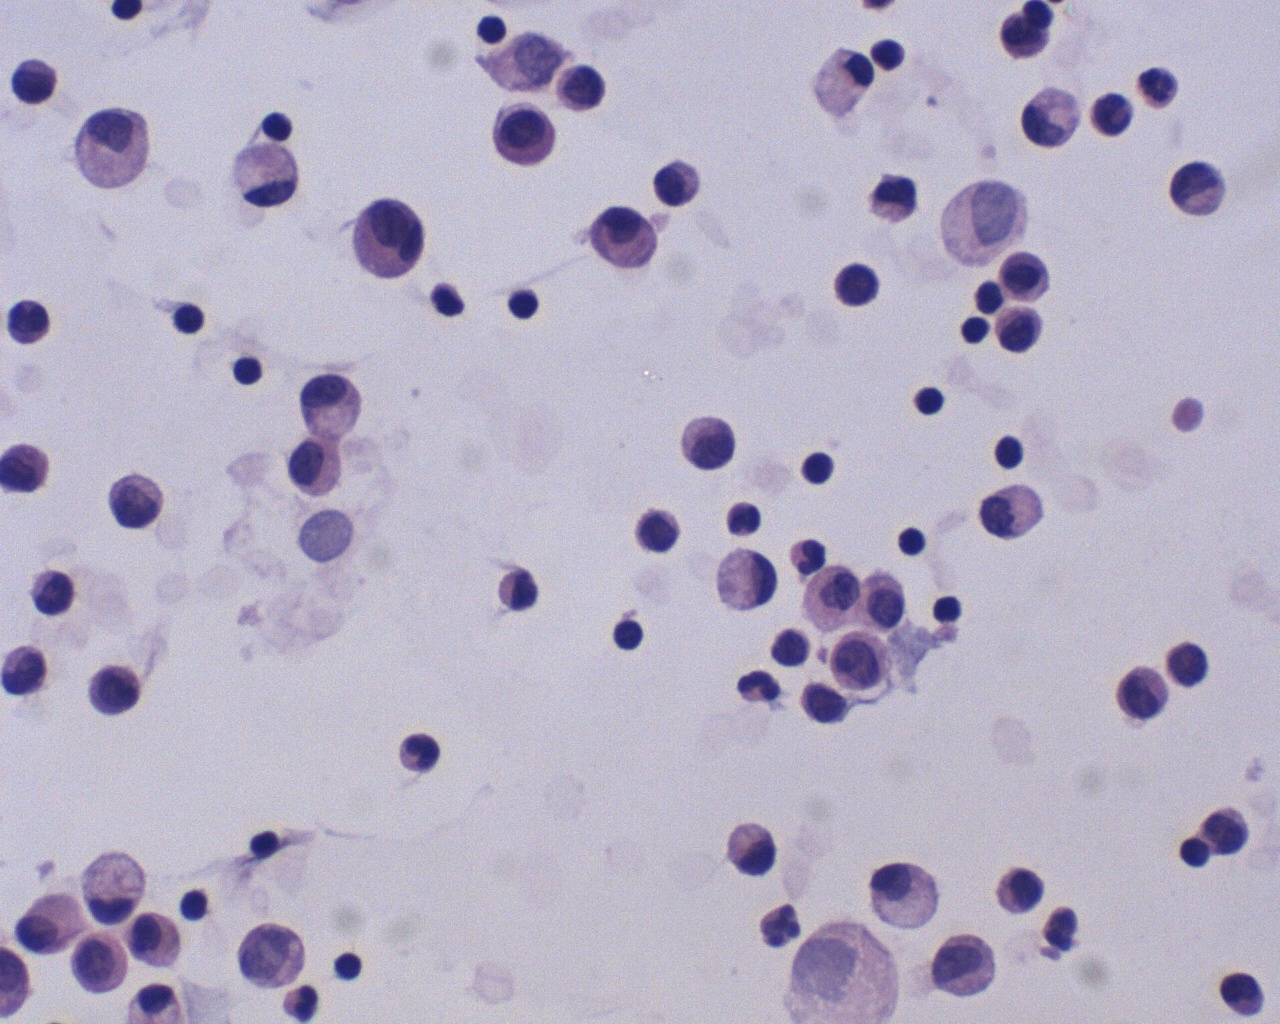ab: (227, 912, 311, 991), (95, 466, 174, 537), (924, 929, 1001, 1001), (828, 628, 893, 695), (1114, 656, 1176, 725), (86, 659, 147, 723), (8, 51, 68, 112), (990, 301, 1049, 360), (833, 258, 881, 313)
histo: (861, 857, 941, 938), (222, 138, 304, 215), (74, 848, 150, 925)
lymph: (505, 276, 553, 328), (169, 294, 216, 342), (797, 443, 844, 489), (870, 34, 911, 80), (609, 613, 648, 658), (990, 428, 1028, 472), (931, 594, 973, 632), (473, 9, 511, 49), (178, 882, 214, 923), (225, 350, 265, 387), (333, 945, 367, 988), (910, 382, 947, 419)
meso: (345, 193, 433, 286), (70, 108, 159, 193), (480, 94, 564, 174), (586, 197, 668, 278), (14, 884, 93, 963), (289, 372, 367, 442), (678, 406, 747, 481), (66, 931, 135, 996), (285, 438, 351, 502)
neutro: (390, 725, 453, 779), (757, 897, 807, 956), (1130, 62, 1182, 111), (734, 669, 786, 712), (785, 534, 827, 575)
